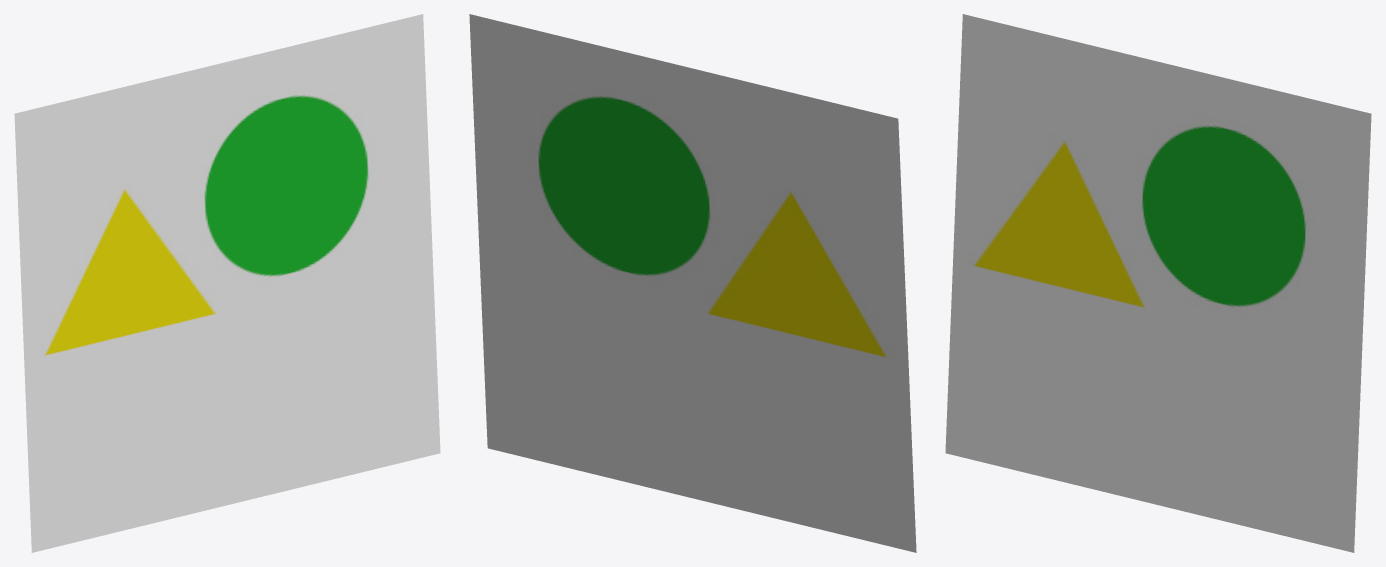
The picture shows the model from 3 angles, left to right: view 1: azimuth 30°, elevation 25°; view 2: azimuth 150°, elevation 25°; view 3: azimuth 330°, elevation 25°; orthographic projection. The views are drawn at different scales.
Parts seen in each view (by area): view 1: Grid; view 2: Grid; view 3: Grid.
Part boxes in pixels (x1,y1,x2,y2): Grid: (14, 14, 440, 552); Grid: (469, 14, 916, 552); Grid: (945, 14, 1371, 552).
Bounding box in the file's own units: 2 × 1.99 × 0.1471.
Materials: 1 (1 with a texture image).
